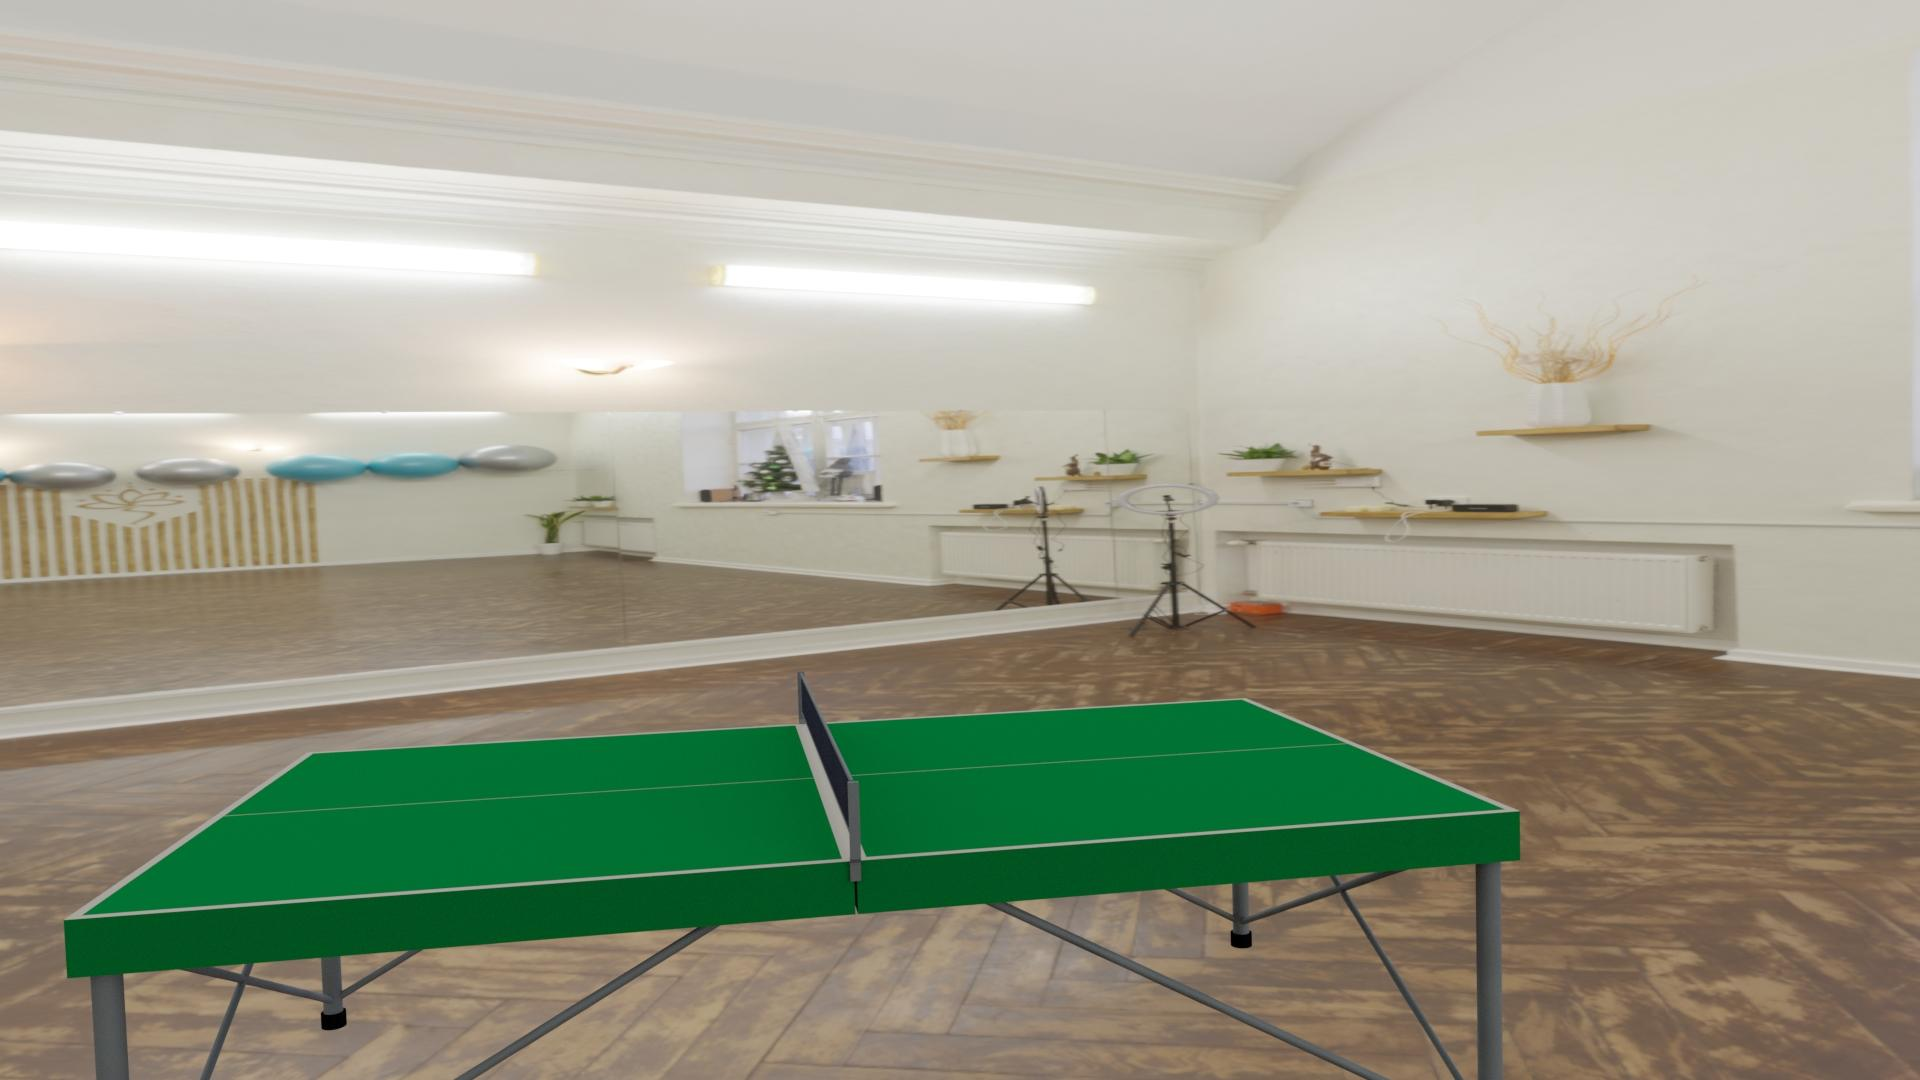table: (82, 699, 1506, 915)
